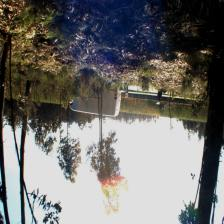trunktrack_idkeyframe: (197, 87, 224, 208), (1, 42, 11, 220), (20, 118, 28, 214)
